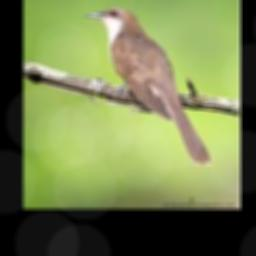Cuckoo: (83, 8, 210, 163)
